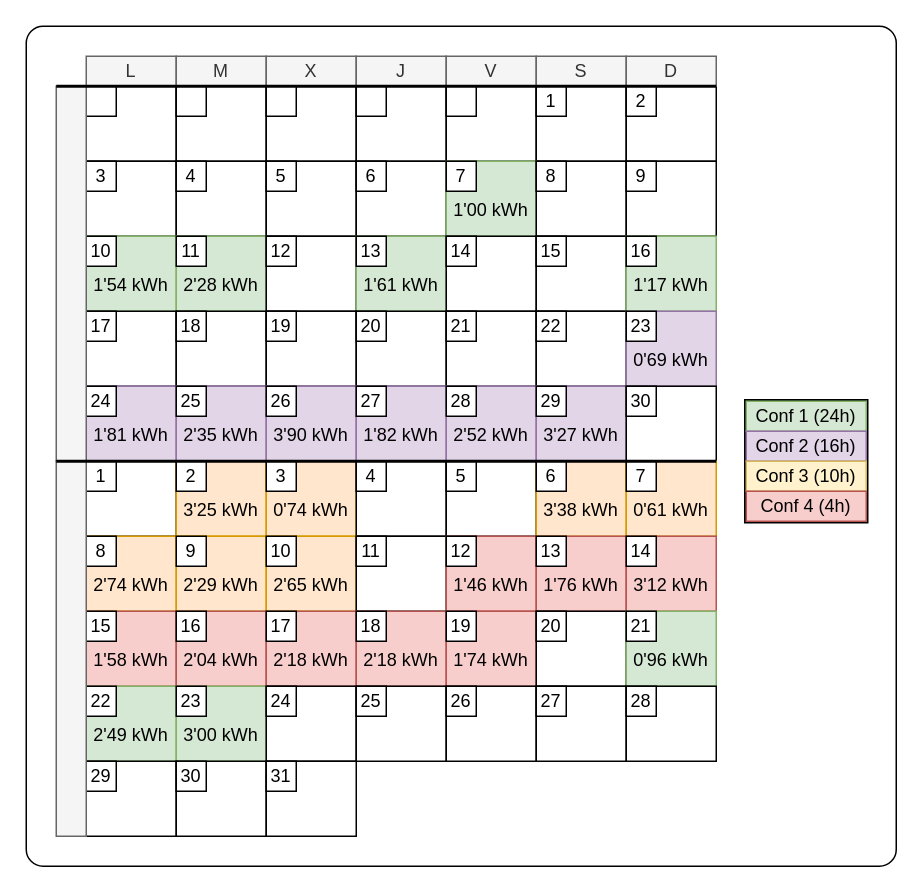
This 923x893 diagram has some shape labels left out. Each missing label, with the centre of its shape:
Diciembre / December 2025: the point at 70,648
Noviembre / November 2025: the point at 70,273
